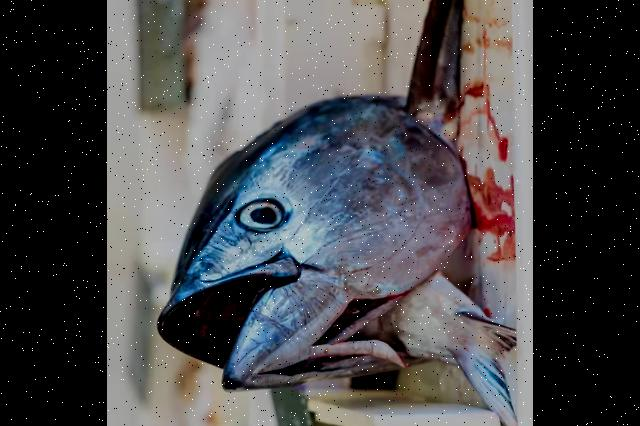Mulut: (132, 224, 342, 424)
Sirip Dada: (372, 0, 491, 160)
Sirip Perut: (435, 280, 522, 426)
